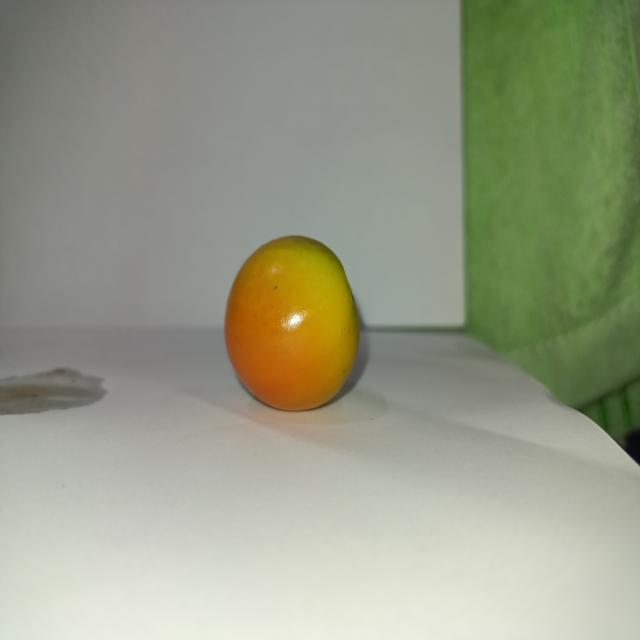Red: (223, 233, 361, 412)
